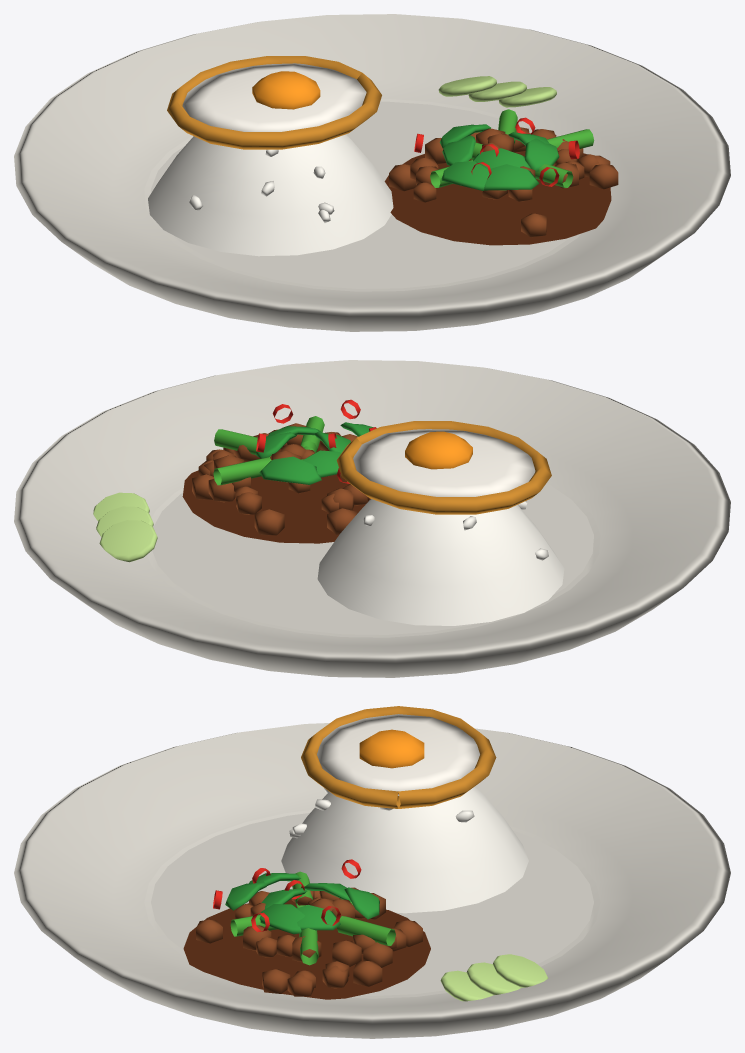
The picture shows the model from 3 angles, top to bottom: view 1: azimuth 30°, elevation 25°; view 2: azimuth 150°, elevation 25°; view 3: azimuth 270°, elevation 25°; orthographic projection.
Parts seen in each view (by area): view 1: plate, rice, plate_well, glaze, egg_white, egg_crisp, minced_pork, basil, cucumber, egg_yolk, green_bean, chili (+1 smaller); view 2: plate, rice, plate_well, egg_white, egg_crisp, glaze, minced_pork, cucumber, basil, green_bean, egg_yolk, chili; view 3: plate, plate_well, rice, minced_pork, egg_white, glaze, egg_crisp, basil, cucumber, green_bean, egg_yolk, chili (+1 smaller).
Boxes of the visible parts, box(x1,y1,x2,y2) form: plate: box(14, 14, 730, 331); rice: box(148, 134, 393, 256); plate_well: box(151, 101, 570, 288); glaze: box(384, 151, 611, 245); egg_white: box(182, 63, 366, 131); egg_crisp: box(167, 56, 381, 149); minced_pork: box(389, 127, 618, 237); basil: box(439, 124, 559, 190); cucumber: box(438, 76, 556, 107); egg_yolk: box(252, 71, 320, 109); green_bean: box(430, 109, 594, 187); chili: box(414, 117, 579, 186); plate: box(14, 360, 730, 677); rice: box(317, 499, 564, 625); plate_well: box(152, 483, 593, 634); egg_white: box(353, 429, 535, 496); egg_crisp: box(336, 421, 551, 514); glaze: box(182, 441, 365, 543); minced_pork: box(192, 423, 370, 535); cucumber: box(93, 492, 157, 562); basil: box(255, 422, 376, 484); green_bean: box(213, 416, 324, 485); egg_yolk: box(405, 431, 472, 469); chili: box(256, 399, 376, 483); plate: box(14, 723, 730, 1038); plate_well: box(151, 813, 593, 995); rice: box(281, 787, 528, 913); minced_pork: box(196, 885, 422, 996); egg_white: box(317, 714, 479, 795); glaze: box(183, 899, 430, 999); egg_crisp: box(301, 706, 496, 808); basil: box(225, 873, 379, 934); cucumber: box(440, 954, 548, 1001); green_bean: box(230, 871, 395, 965); egg_yolk: box(359, 729, 424, 768); chili: box(213, 859, 361, 932).
Size of the model in its own units: 0.22 by 0.0521 by 0.22.
